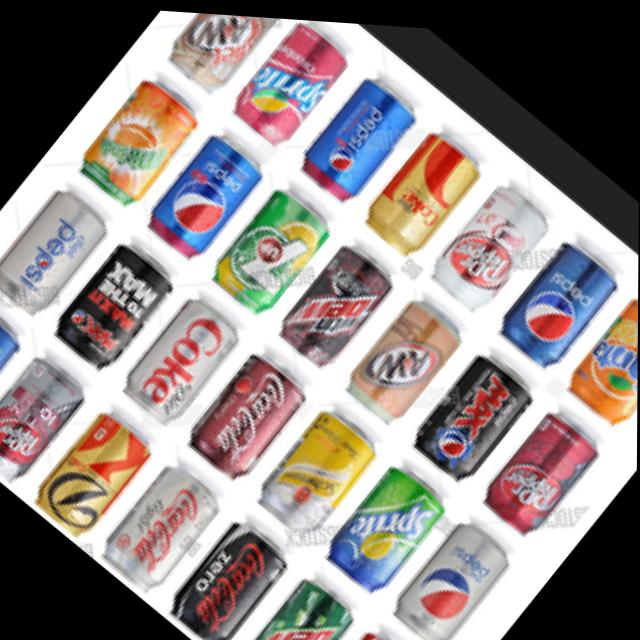aluminum_soda_cans: (489, 217, 631, 378), (67, 57, 208, 213), (202, 169, 341, 325), (422, 161, 558, 316), (290, 57, 425, 211), (220, 12, 359, 159), (270, 225, 403, 374), (48, 232, 179, 380), (93, 455, 223, 604), (250, 396, 381, 543), (139, 124, 270, 271), (319, 450, 447, 595), (116, 289, 245, 432), (359, 113, 486, 258), (386, 503, 518, 640), (408, 344, 535, 484), (477, 397, 602, 538), (159, 508, 292, 640), (31, 402, 154, 542), (346, 284, 464, 421), (0, 181, 111, 325), (189, 355, 303, 484), (0, 345, 88, 489), (162, 9, 290, 101), (562, 281, 639, 419), (240, 570, 359, 640), (0, 294, 26, 433), (295, 619, 423, 640)
